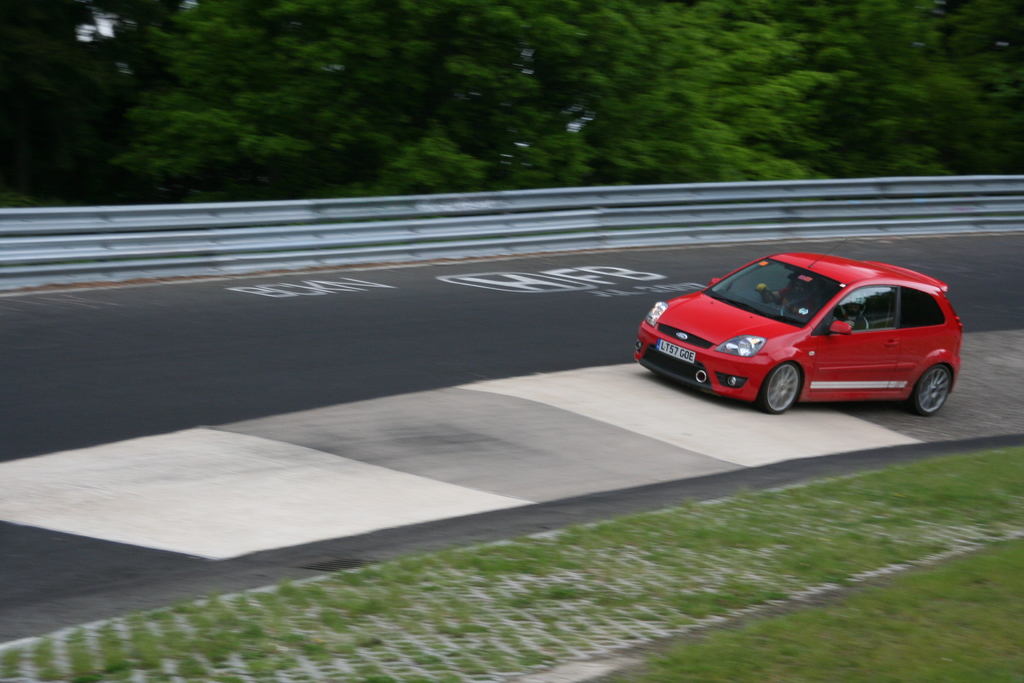Car: (638, 241, 961, 415)
